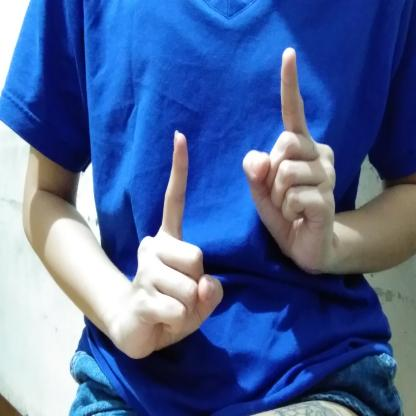morning: (123, 41, 340, 374)
